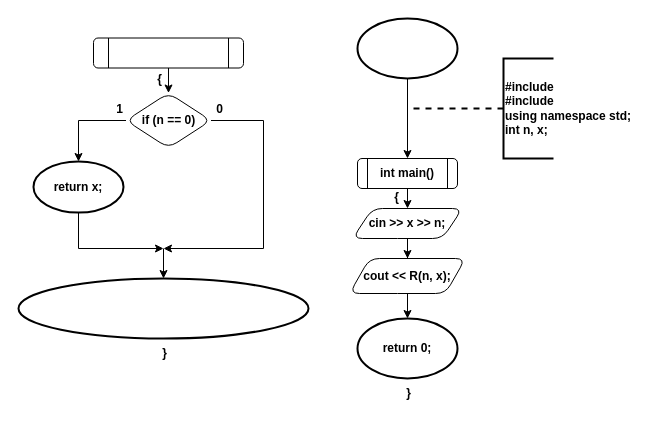
Image size: 648x423. Some labels were removed from this diagram. Each missing label, with the centre of its shape:
double R(int n, int x): the point at 168,52
return pow(x, 4 * n + 1) / (4 * n + 1) + R(n - 1, x);: the point at 163,308
начало: the point at 407,48
